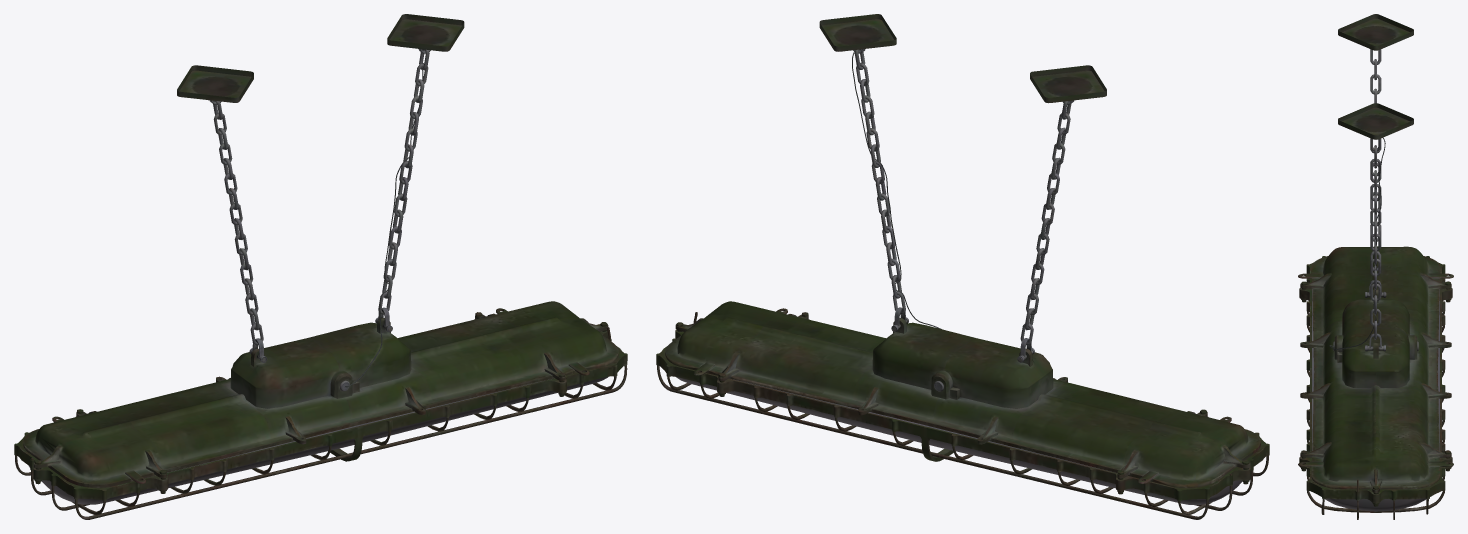
File: caged_hanging_light.glb
The picture shows the model from 3 angles, left to right: view 1: azimuth 30°, elevation 25°; view 2: azimuth 150°, elevation 25°; view 3: azimuth 270°, elevation 25°; orthographic projection. The views are drawn at different scales.
Parts seen in each view (by area): view 1: caged_hanging_light; view 2: caged_hanging_light; view 3: caged_hanging_light.
Part boxes in pixels (x1,y1,x2,y2): caged_hanging_light: (14,14,627,519); caged_hanging_light: (656,14,1269,519); caged_hanging_light: (1298,14,1453,519).
Size of the model in its own units: 1.16 by 0.7501 by 0.3149.
1 material, 1 textured.
